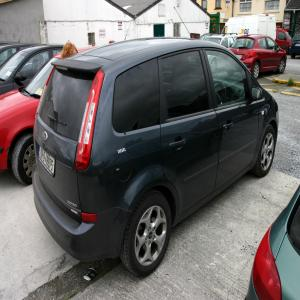Vehicle-registration-plate: (37, 146, 57, 179)
